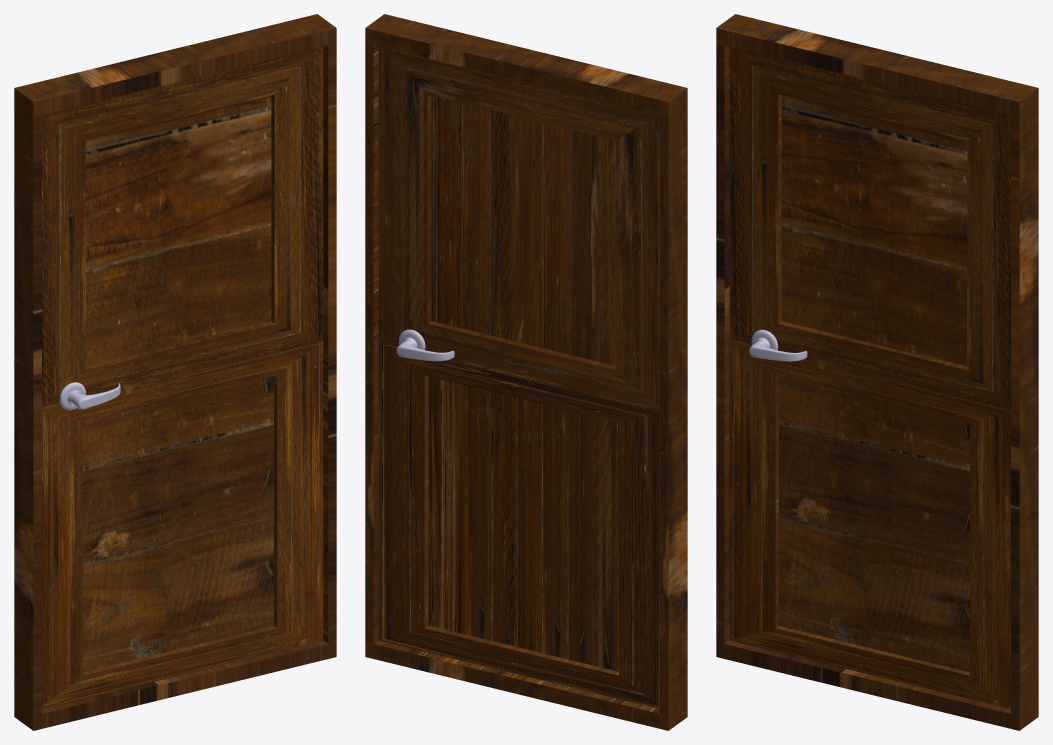
Rendered from woodendoor.fbx.
3 views of the same model, side by side, from view 1: azimuth 30°, elevation 25°; view 2: azimuth 150°, elevation 25°; view 3: azimuth 330°, elevation 25° (orthographic).
Parts seen in each view (by area): view 1: Handle_Back; view 2: Handle_Back; view 3: Handle_Back.
Part boxes in pixels (x1=…): Handle_Back: x1=14, y1=14, x2=336, y2=730; Handle_Back: x1=365, y1=14, x2=687, y2=730; Handle_Back: x1=716, y1=14, x2=1038, y2=730.
Bounding box in the file's own units: 106 × 210 × 19.88.
